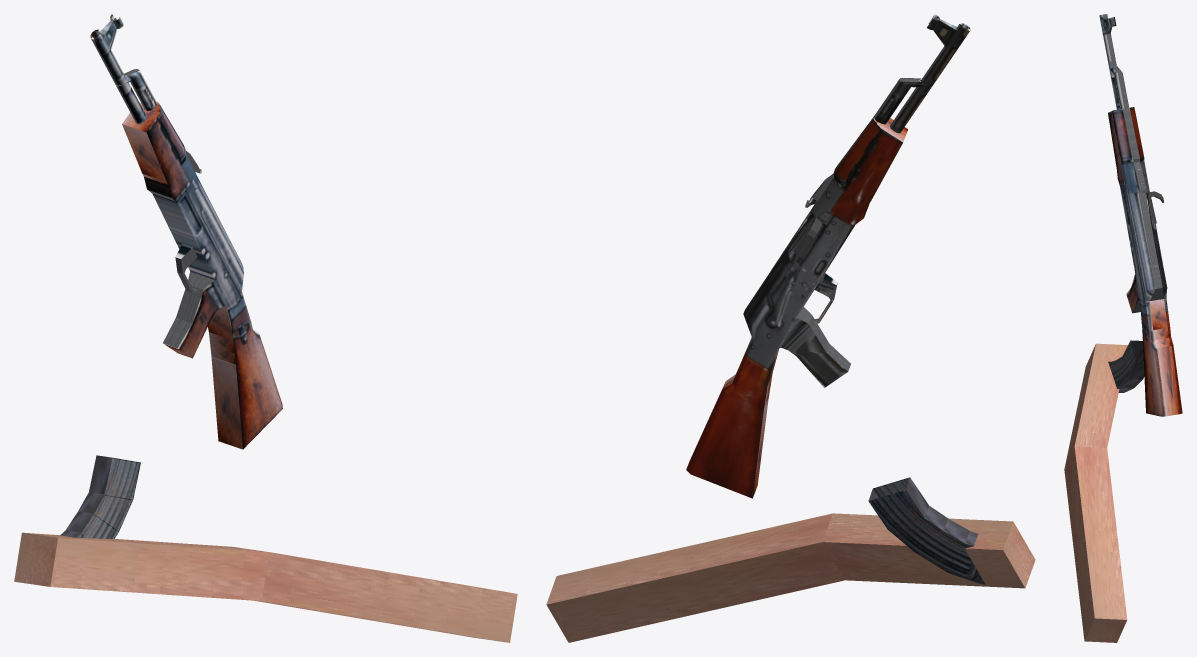
3 renders of one model, left to right at view 1: azimuth 30°, elevation 25°; view 2: azimuth 150°, elevation 25°; view 3: azimuth 270°, elevation 25°, orthographic. The views are drawn at different scales.
Parts seen in each view (by area): view 1: Cube.001_Cube.006, Cube.007_Cube.005, Cube.002_Cube.003; view 2: Cube.001_Cube.006, Cube.007_Cube.005, Cube.002_Cube.003; view 3: Cube.001_Cube.006, Cube.007_Cube.005, Cube.002_Cube.003.
Part boxes in pixels (x1,y1,x2,y2): Cube.001_Cube.006: (14, 532, 517, 642); Cube.007_Cube.005: (90, 14, 282, 449); Cube.002_Cube.003: (60, 455, 140, 538); Cube.001_Cube.006: (546, 513, 1035, 642); Cube.007_Cube.005: (686, 14, 970, 498); Cube.002_Cube.003: (868, 477, 985, 584); Cube.001_Cube.006: (1064, 343, 1127, 642); Cube.007_Cube.005: (1099, 14, 1182, 416); Cube.002_Cube.003: (1108, 340, 1144, 392).
Bounding box in the file's own units: 9.23 × 12.93 × 2.76.
